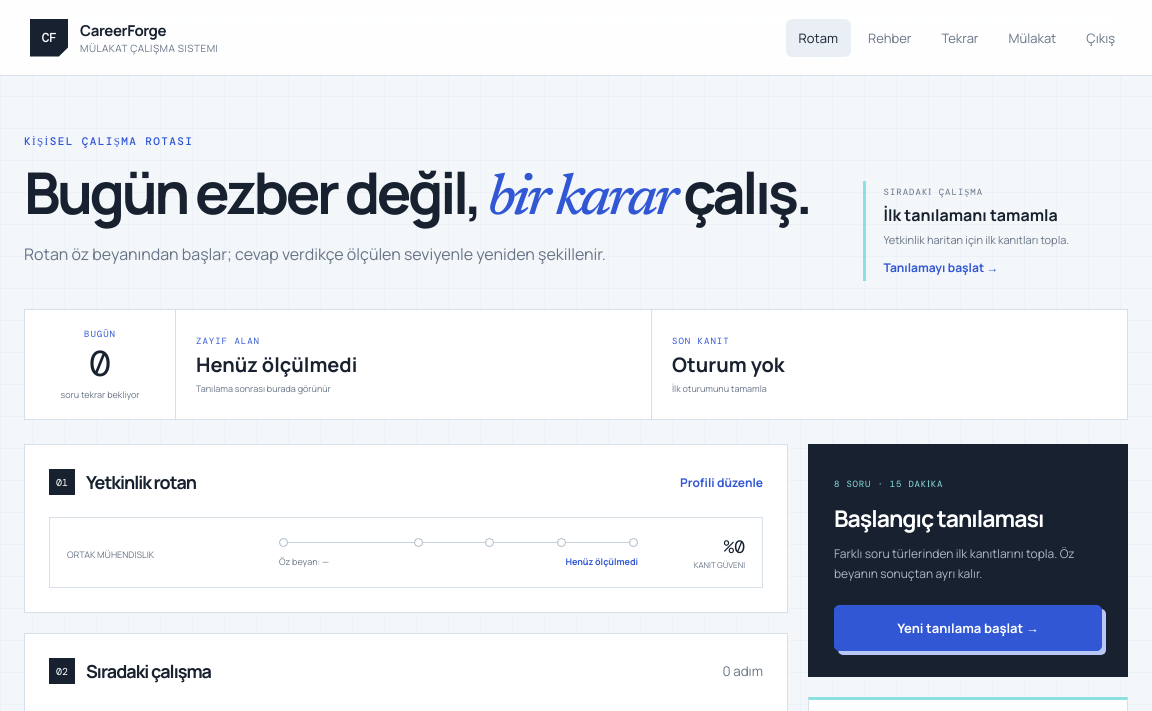
Test: App › answers a diagnostic question and opens the completed result
Click the button "Tanılamayı başlat →" at (941, 268), box [884,259,998,276]
(page scrolled)
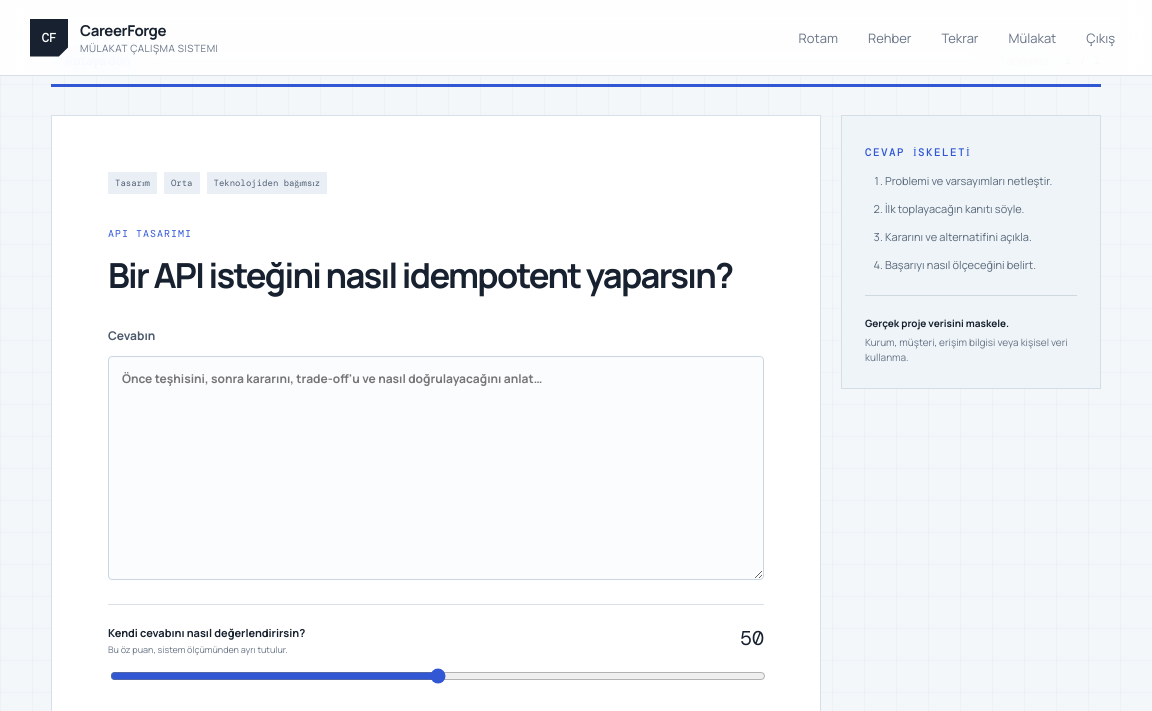
Result: the heading "Bir API isteğini nasıl idempotent yaparsın?" is shown at [108,255,764,295]
Type "Idempotency key ve unique constraint kullanırım." into the text box labelled "Cevabın" at (436, 468), box [108,356,764,580]
(page scrolled)
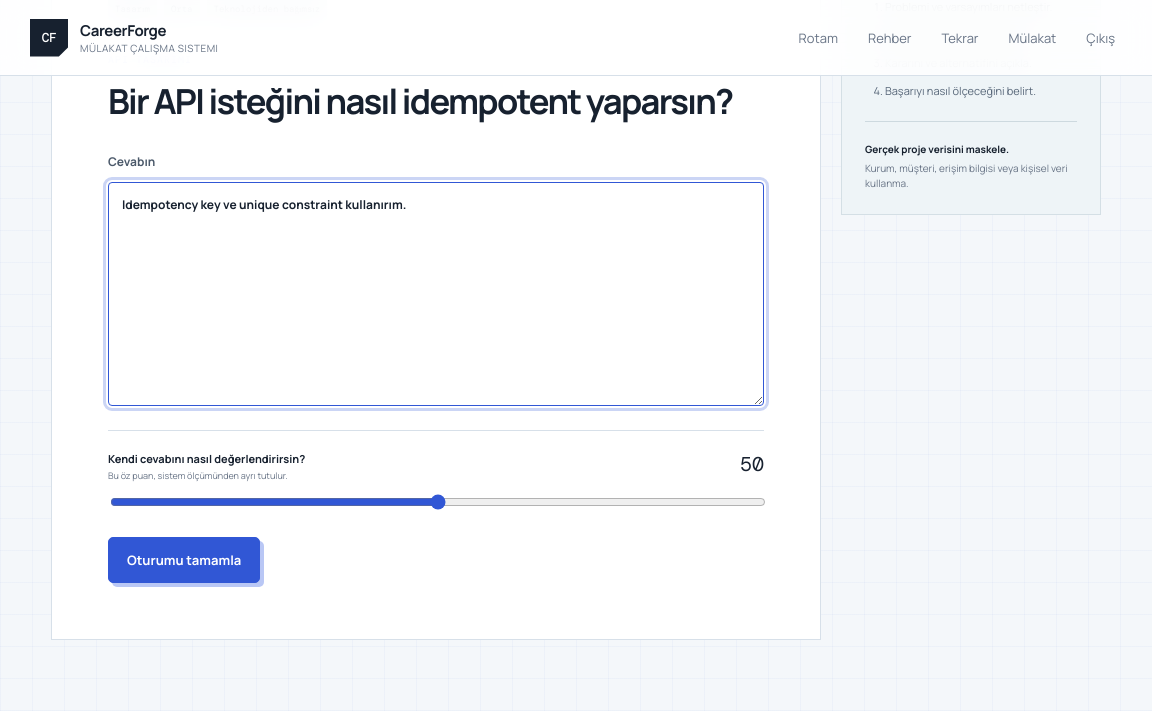
Click the button "Oturumu tamamla" at (184, 560), box [108,537,260,583]
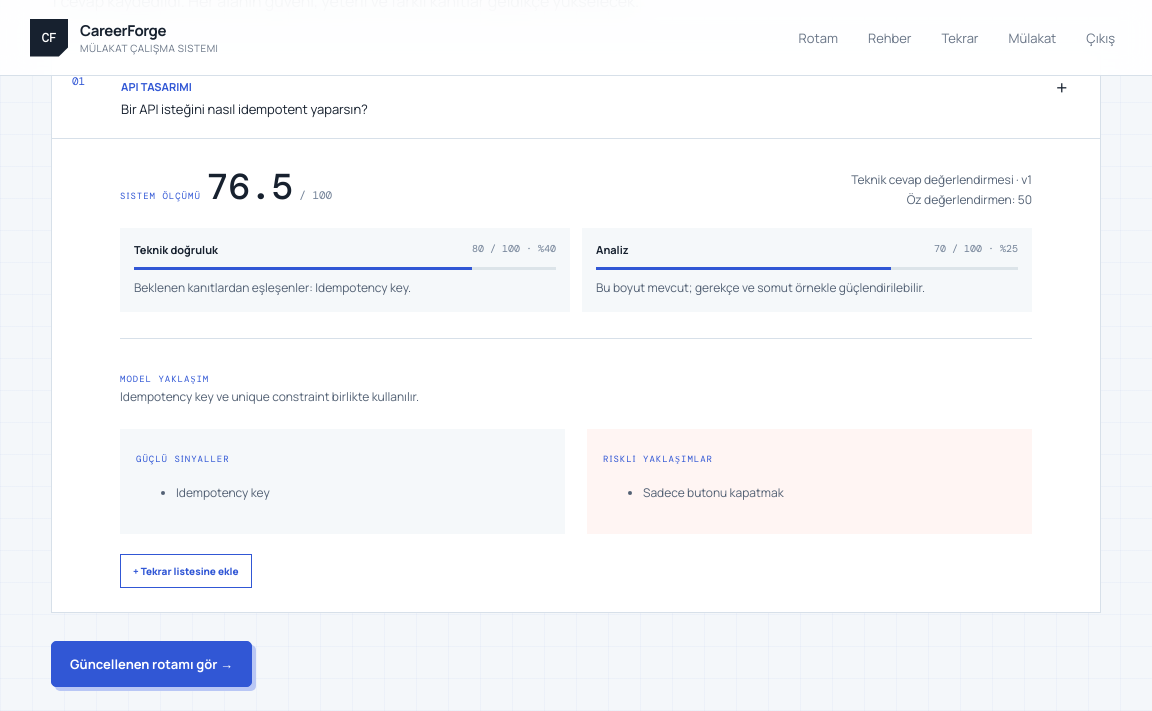
Result: the text "Idempotency key ve unique constraint birlikte kullanılır." is shown at [120,388,419,405]
Result: the list item "Idempotency key" is shown at [176,484,270,501]
Result: the list item "Sadece butonu kapatmak" is shown at [643,484,784,501]
Click the button "+ Tekrar listesine ekle" at (186, 571), box [120,554,252,588]
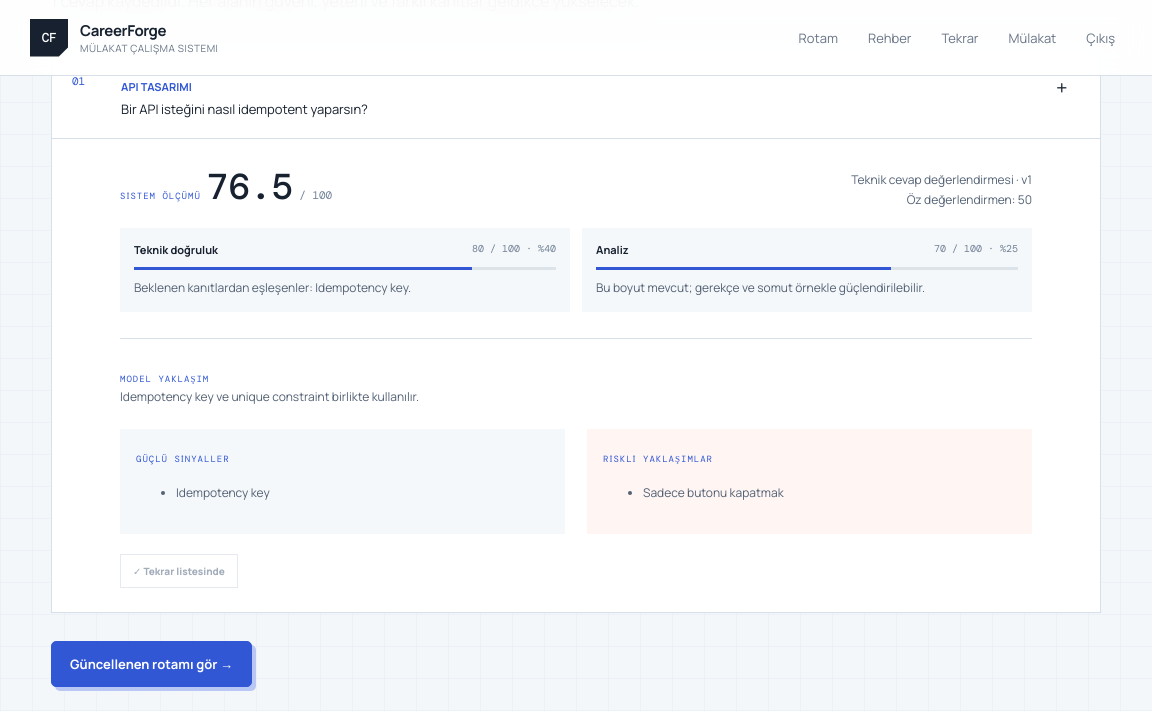
Result: the button "✓ Tekrar listesinde" is disabled at [120,554,238,588]
